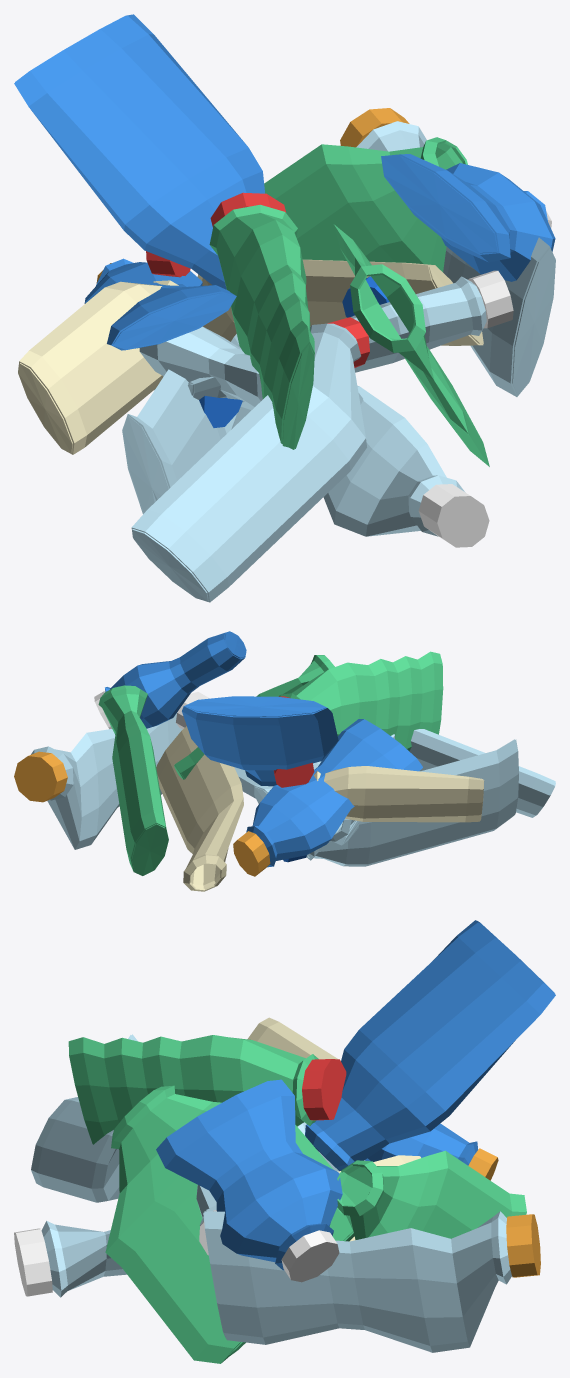
Rendered from Montones de cajas (va en la mano) .fbx.
The picture shows the model from 3 angles, top to bottom: view 1: azimuth 30°, elevation 25°; view 2: azimuth 150°, elevation 25°; view 3: azimuth 270°, elevation 25°; orthographic projection. The views are drawn at different scales.
Visible parts, largest first — view 1: Pilon_Botellas_Optimizado.124; view 2: Pilon_Botellas_Optimizado.124; view 3: Pilon_Botellas_Optimizado.124.
Part boxes in pixels (box(x1,y1,x2,y2)): Pilon_Botellas_Optimizado.124: box(14, 14, 555, 602); Pilon_Botellas_Optimizado.124: box(14, 631, 555, 891); Pilon_Botellas_Optimizado.124: box(14, 920, 555, 1363).
Size of the model in its own units: 115 by 71.6 by 111.
